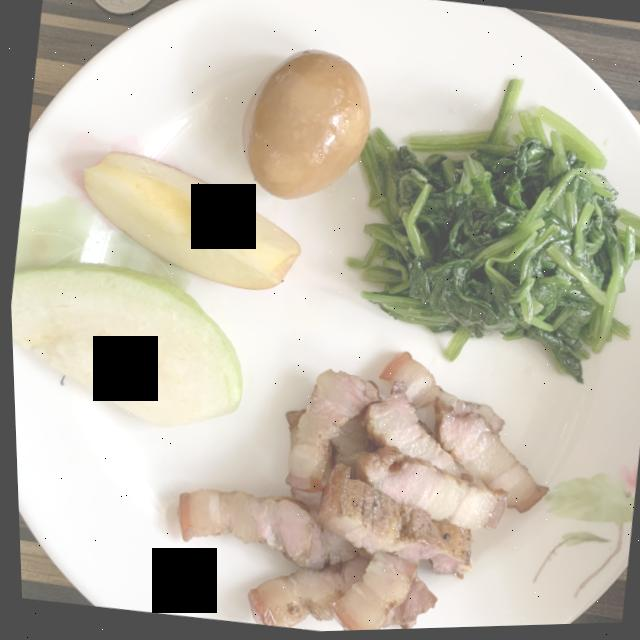apple -sliced-: (81, 152, 298, 292)
coin: (93, 0, 151, 15)
grilled pork: (174, 354, 543, 633)
guava -sliced-: (9, 264, 239, 428)
mustard greens: (346, 82, 640, 387)
soy egg: (240, 52, 369, 202)
